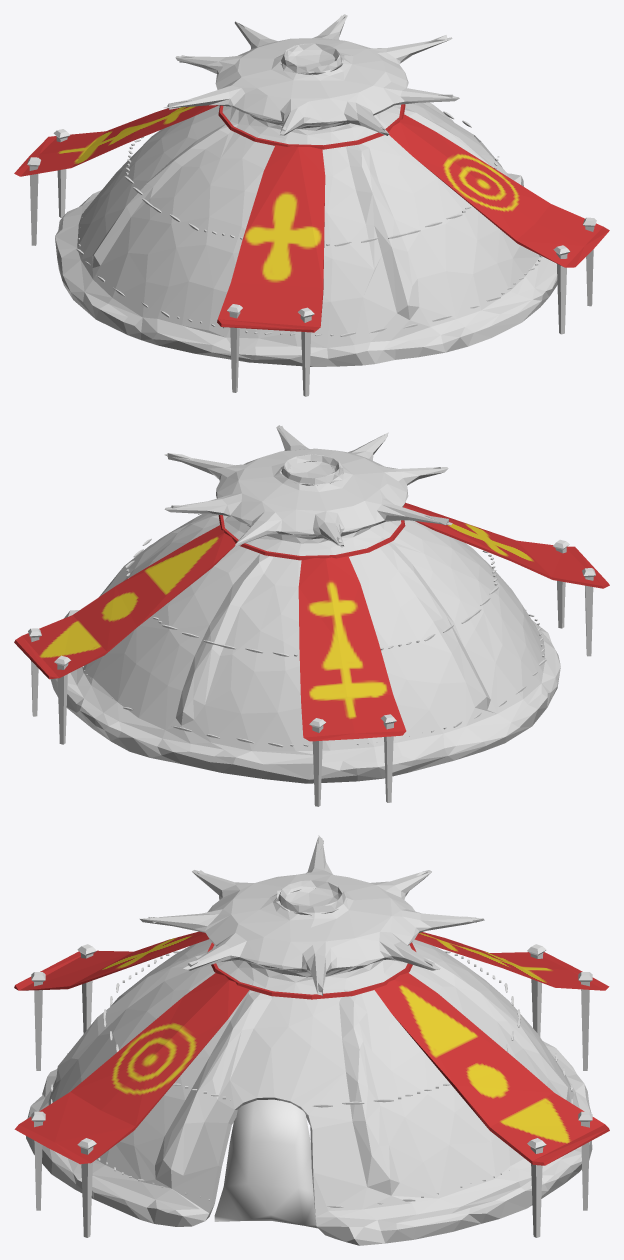
File: House01-4.fbx
The picture shows the model from 3 angles, top to bottom: view 1: azimuth 30°, elevation 25°; view 2: azimuth 150°, elevation 25°; view 3: azimuth 270°, elevation 25°; orthographic projection. The views are drawn at different scales.
Parts seen in each view (by area): view 1: House1-4; view 2: House1-4; view 3: House1-4.
Part boxes in pixels (x1,y1,x2,y2): House1-4: (14, 14, 609, 396); House1-4: (14, 425, 609, 806); House1-4: (14, 835, 609, 1245).
Size of the model in its own units: 1403 by 655 by 1435.
